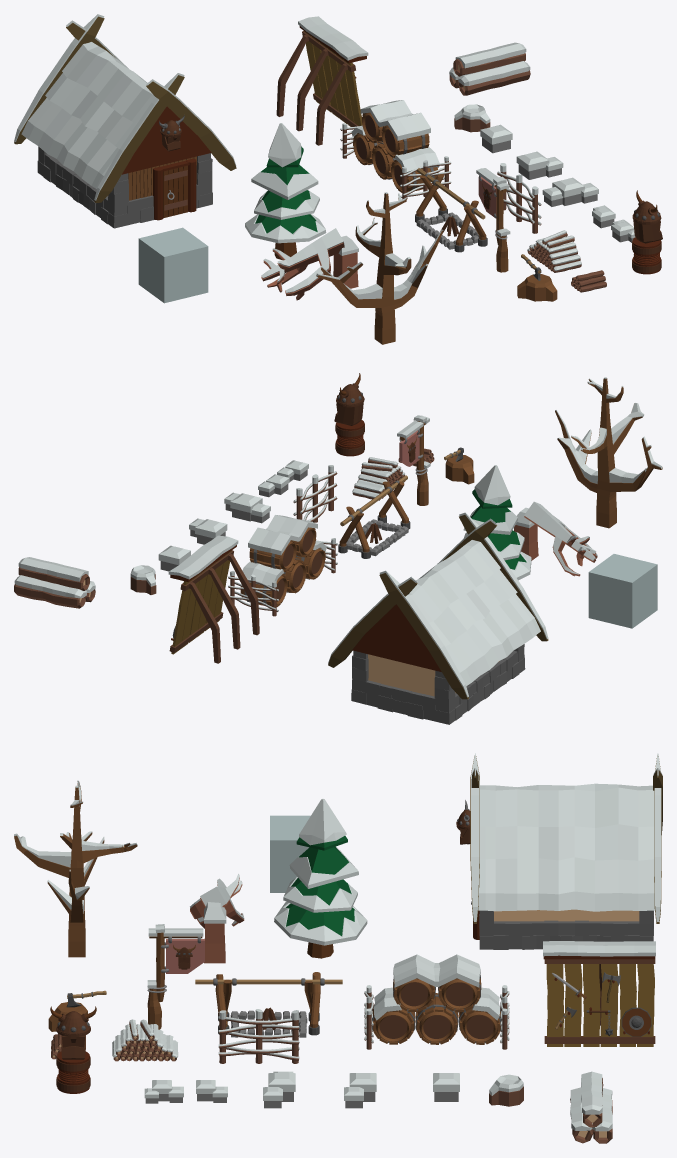
File: Wikingerdorf (und Bäume...).fbx
3 renders of one model, top to bottom at view 1: azimuth 30°, elevation 25°; view 2: azimuth 150°, elevation 25°; view 3: azimuth 270°, elevation 25°, orthographic. The views are drawn at different scales.
Visible parts, largest first — view 1: Cube.004, Cylinder.000, Cube.011, Cube.010, Cube.013, Cube, Cube.014, Cube.006, Torus, Cylinder.005, Torus.004, Cube.009 (+7 smaller); view 2: Cube.004, Cylinder.000, Cube.010, Cube.013, Cube, Cube.011, Cube.006, Torus, Cube.014, Cylinder.005, Torus.004, Cube.009 (+7 smaller); view 3: Cube.004, Cube.010, Cylinder.000, Cube.011, Cube.013, Torus, Torus.004, Cylinder.003, Cylinder.005, Cube.006, Cube.014, Cube (+7 smaller).
Part boxes in pixels (box(x1,y1,x2,y2)): Cube.004: box(14, 14, 236, 228); Cylinder.000: box(340, 100, 451, 201); Cube.011: box(245, 123, 326, 259); Cube.010: box(276, 16, 368, 145); Cube.013: box(316, 192, 443, 344); Cube: box(138, 227, 208, 303); Cube.014: box(261, 228, 358, 300); Cube.006: box(449, 42, 530, 95); Torus: box(415, 168, 487, 252); Cylinder.005: box(632, 190, 662, 274); Torus.004: box(476, 168, 510, 272); Cube.009: box(527, 230, 581, 272); Cube.004: box(328, 512, 548, 724); Cylinder.000: box(228, 515, 337, 616); Cube.010: box(168, 535, 259, 663); Cube.013: box(555, 377, 662, 528); Cube: box(588, 554, 657, 628); Cube.011: box(463, 465, 531, 580); Cube.006: box(14, 557, 95, 608); Torus: box(338, 475, 410, 558); Cube.014: box(514, 501, 597, 576); Cylinder.005: box(334, 373, 364, 456); Torus.004: box(397, 415, 430, 505); Cube.009: box(352, 457, 405, 500); Cube.004: box(456, 753, 662, 949); Cube.010: box(543, 941, 655, 1046); Cylinder.000: box(364, 954, 509, 1049); Cube.011: box(274, 799, 367, 958); Cube.013: box(14, 780, 137, 957); Torus: box(195, 972, 342, 1037); Torus.004: box(147, 924, 204, 1029); Cylinder.003: box(218, 1009, 299, 1063); Cylinder.005: box(50, 1006, 96, 1093); Cube.006: box(570, 1071, 612, 1143); Cube.014: box(190, 874, 244, 963); Cube: box(270, 815, 310, 892).
Bounding box in the file's own units: 1315 × 370 × 1296.
